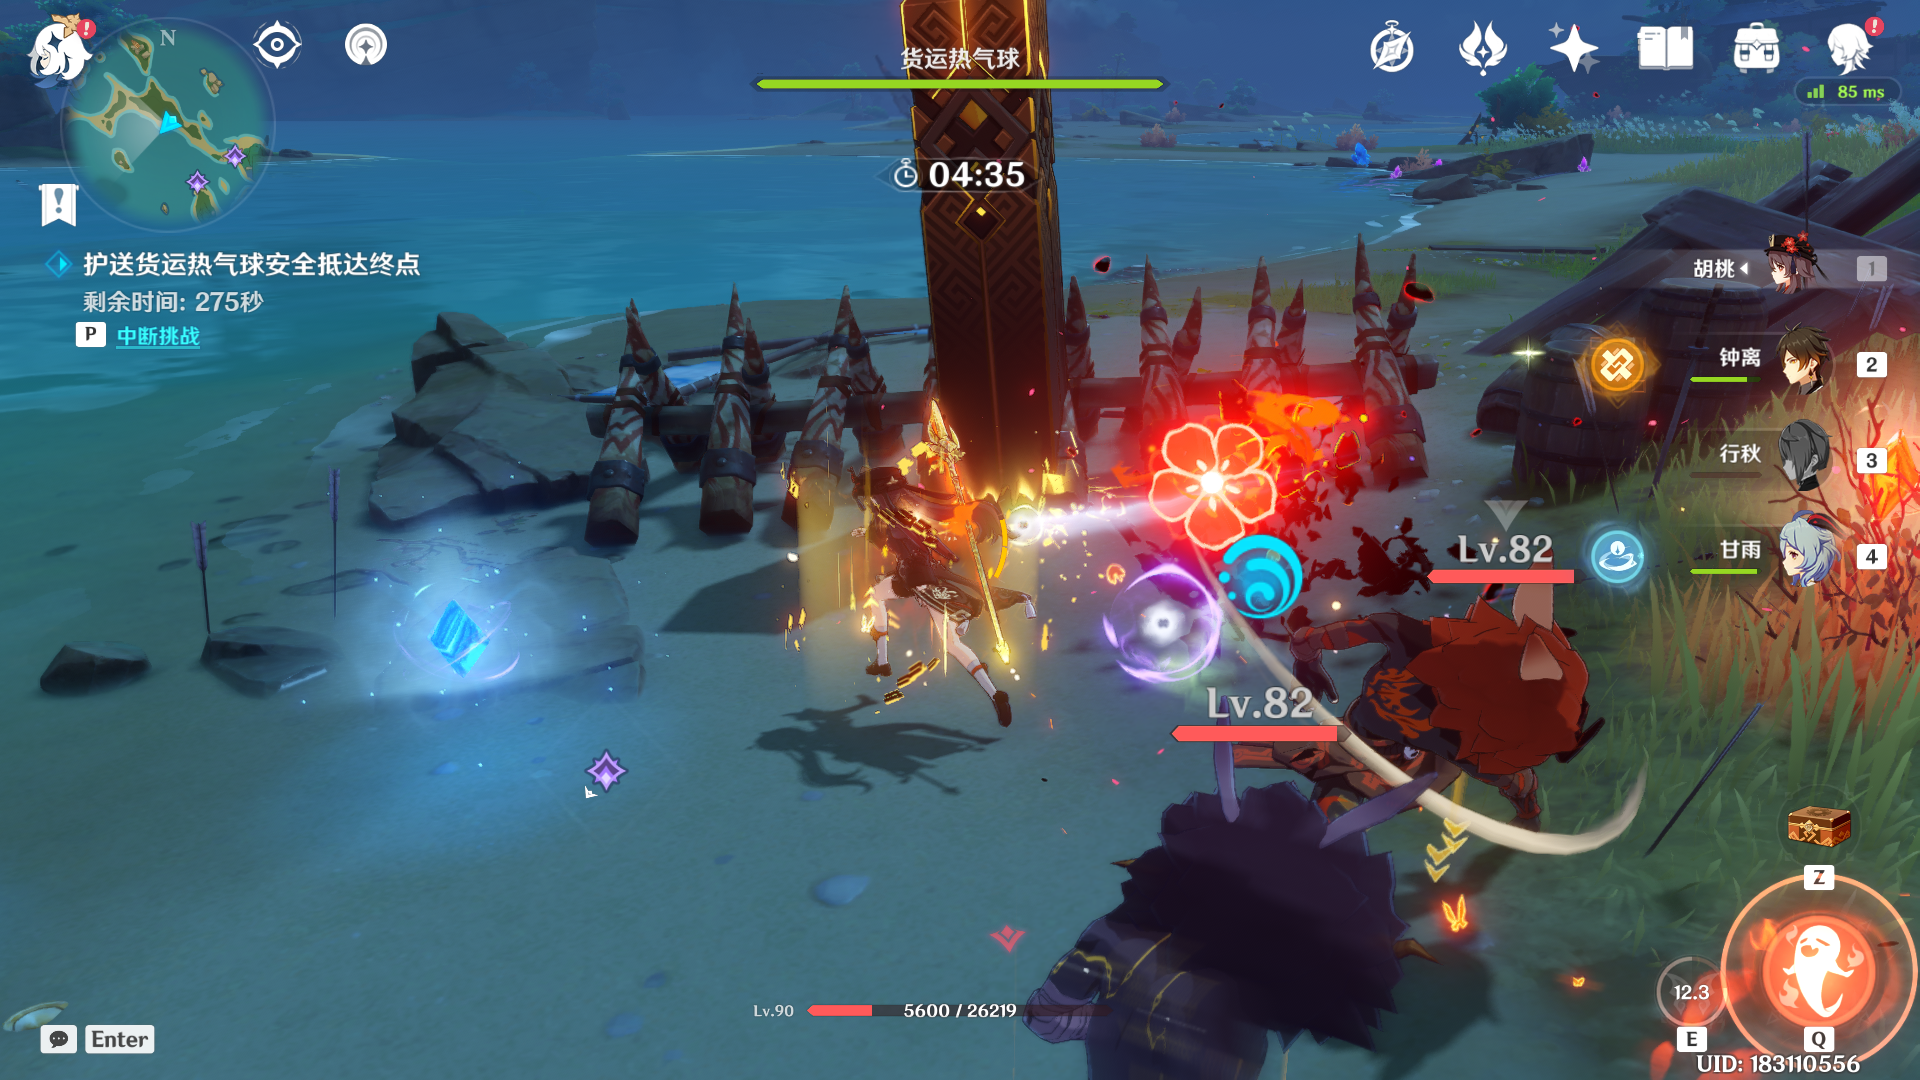character: (845, 396, 1063, 777)
hili: (990, 744, 1486, 1080), (1156, 563, 1623, 913)
